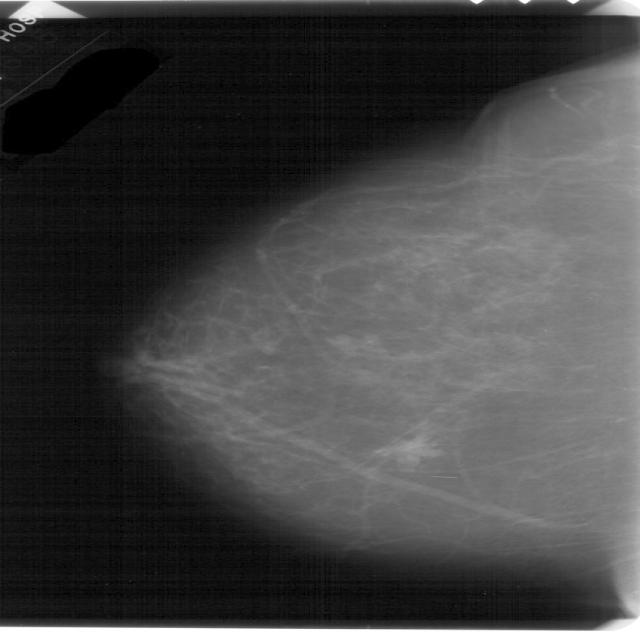tumour: (380, 434, 440, 468)
